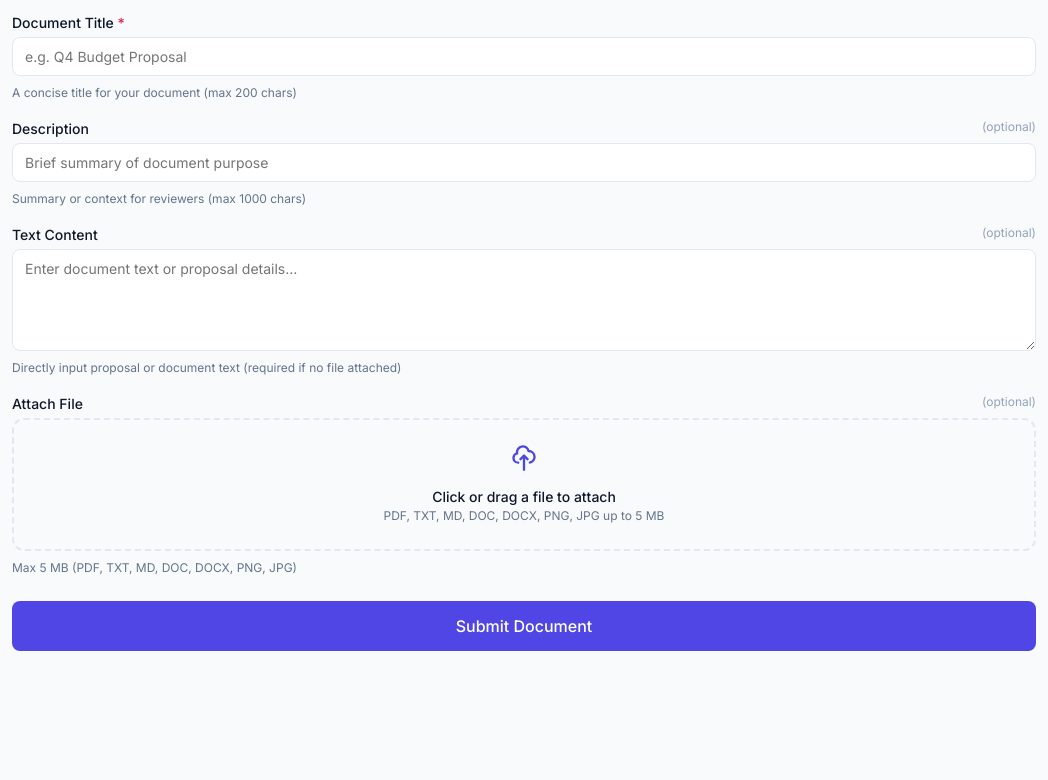
Frontend: SubmissionForm Component › validates either textContent or file is required
The width and height of the screenshot is (1048, 780).
Type "Valid Title" into the field labelled "Document Title *".
click(524, 56); type("Valid Title")  # box [12, 37, 1036, 76]
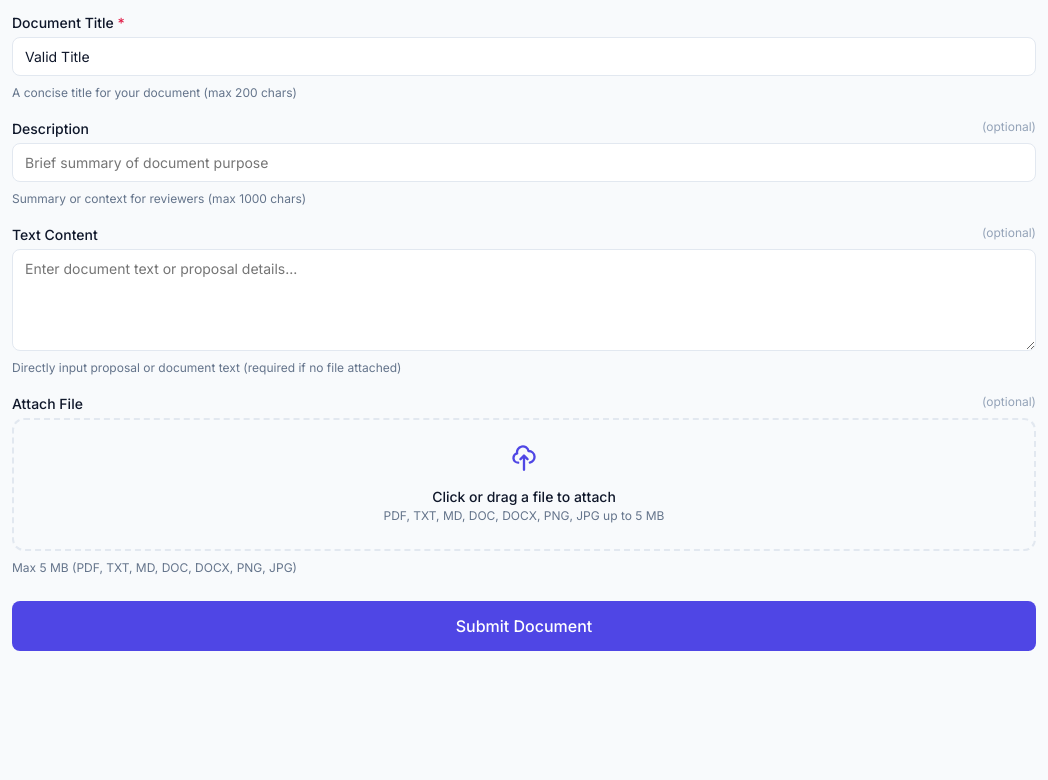
Click the button "Submit Document".
click(524, 626)  # box [12, 601, 1036, 651]
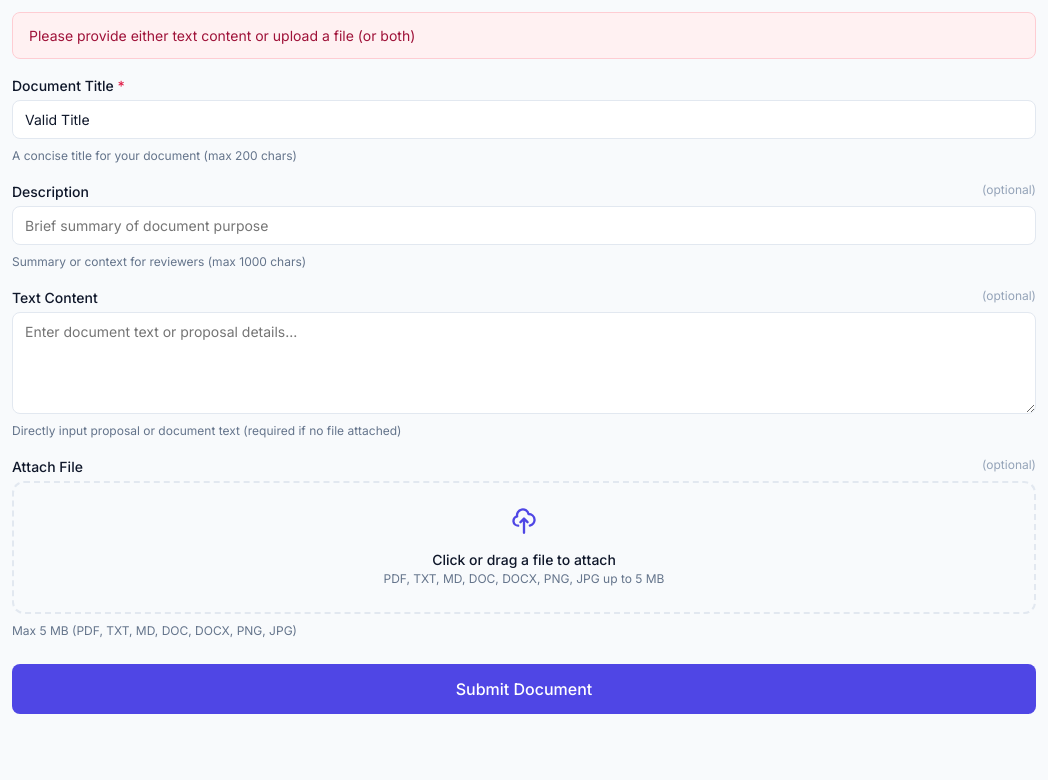
Result: the text "Please provide either text content or upload a file (or both)" is shown at [29, 25, 415, 46]
